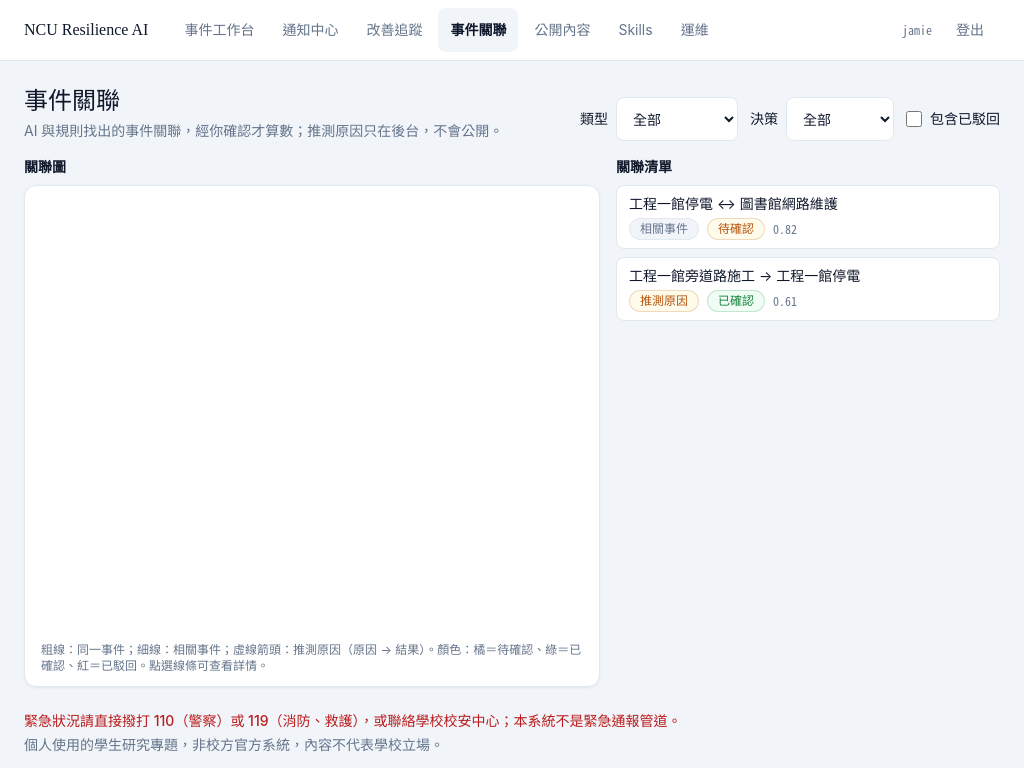
Test: RelationGraph › 確認關聯：送出決策與備註，成功後更新狀態並可回滾
Click the button "工程一館停電 ↔ 圖書館網路維護 相關事件 待確認 0.82" at {"x": 733, "y": 204}, box [616, 185, 1000, 249]
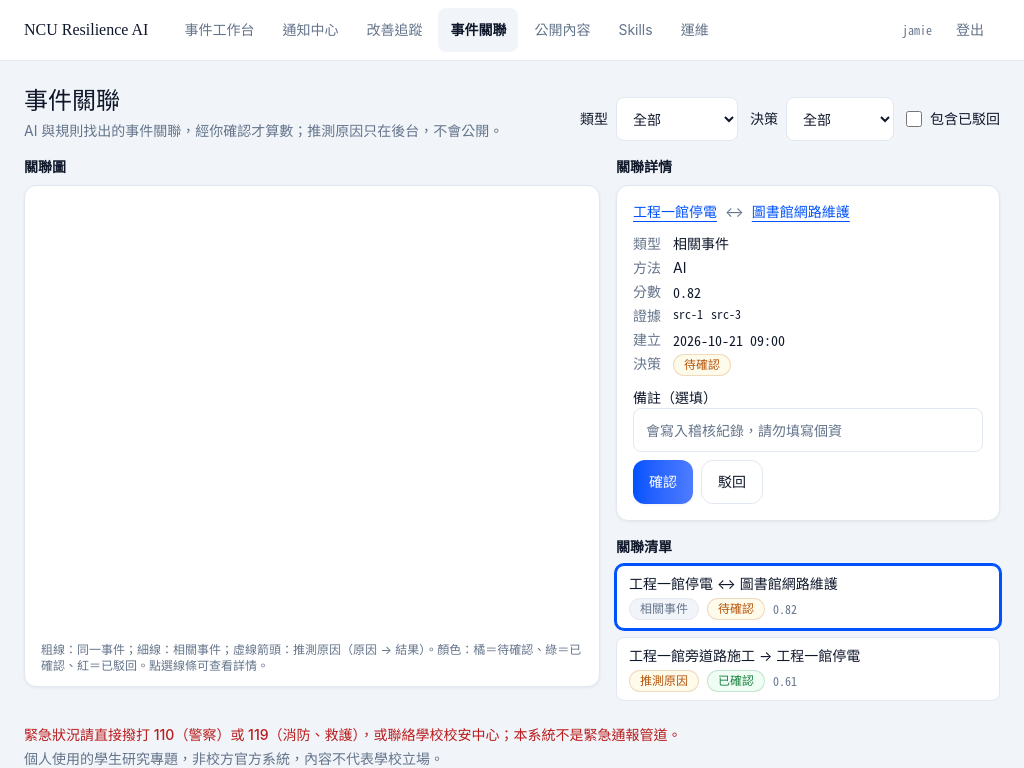
Type "同一棟大樓同時段" into the field labelled "備註（選填）" at {"x": 808, "y": 430}, box [633, 408, 983, 452]
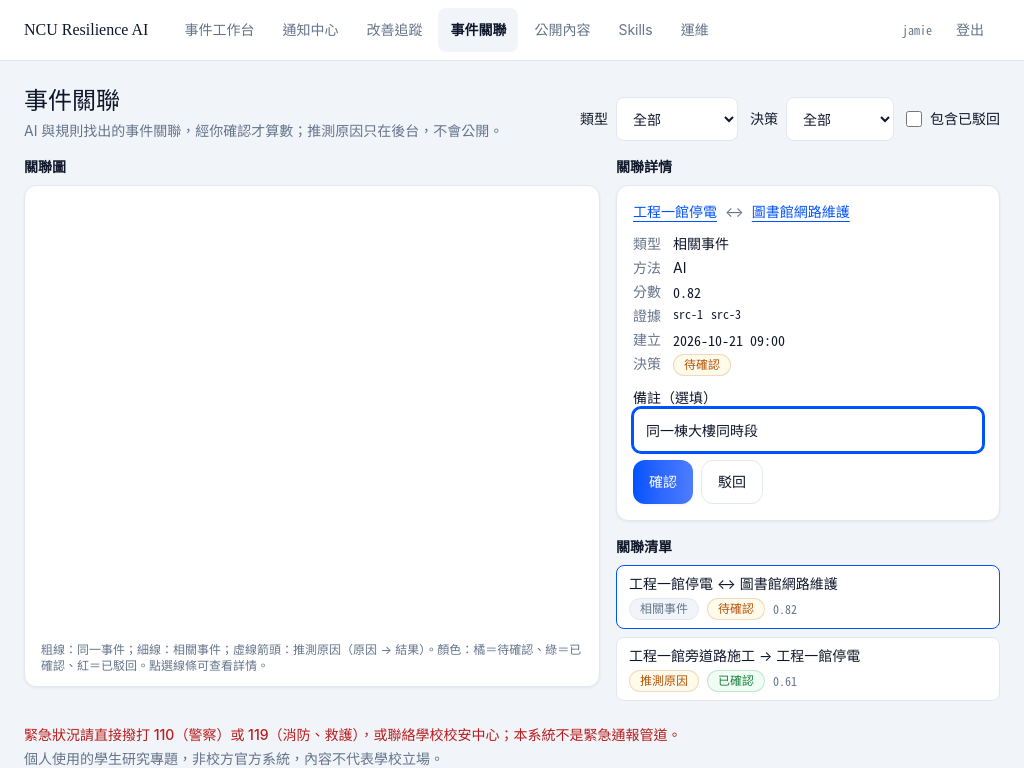
Click the button "確認" at {"x": 663, "y": 482}, box [633, 460, 693, 504]
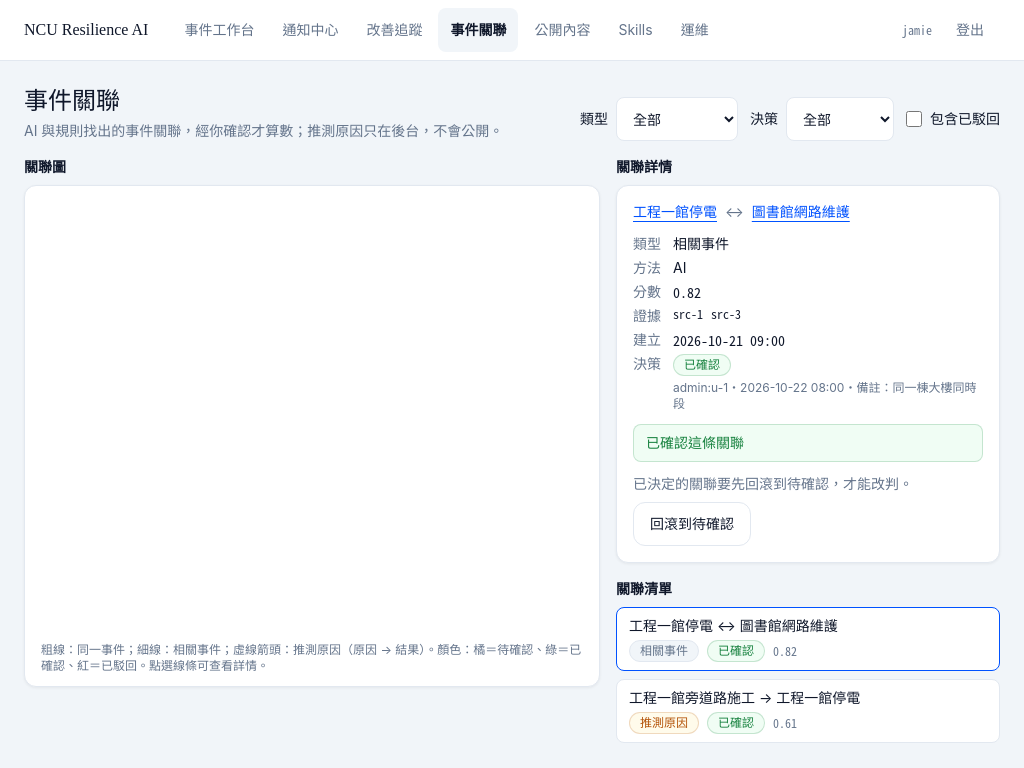
Check: the message reads "已確認這條關聯", box [646, 434, 744, 451]
Check: the 2nd text "已確認" is shown, box [707, 640, 765, 662]
Click the button "回滾到待確認" at {"x": 692, "y": 524}, box [633, 502, 751, 546]
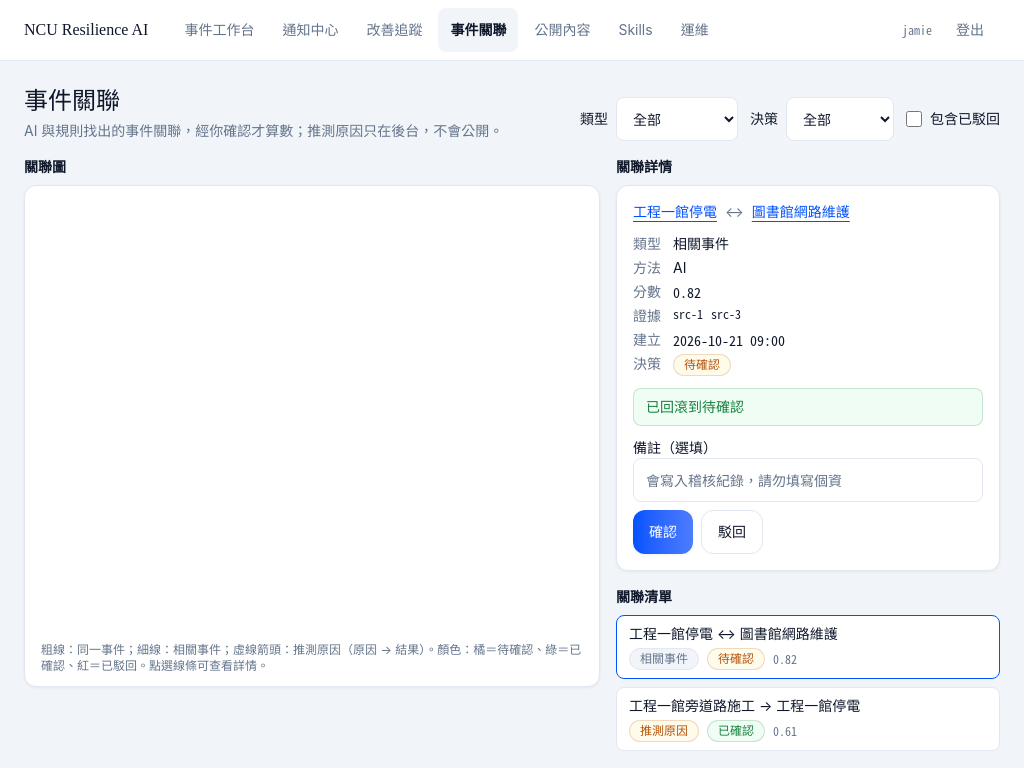
Check: the text "待確認" below "關聯清單" is shown, box [718, 651, 754, 666]
